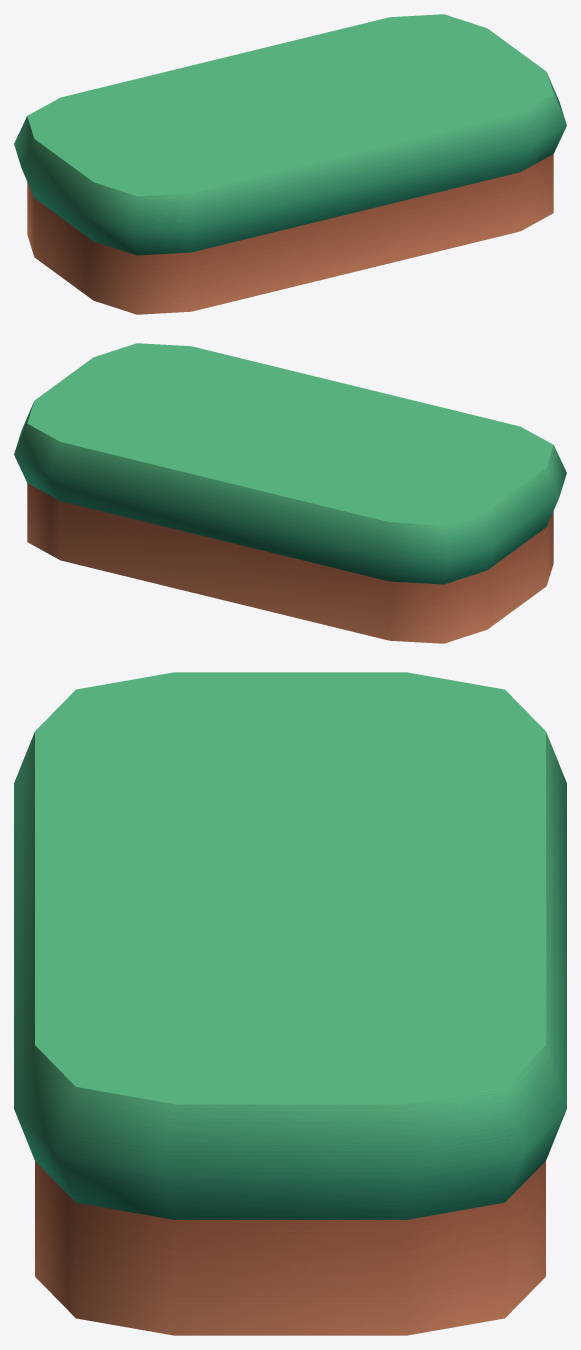
Rendered from block-grass-low-long.glb.
The picture shows the model from 3 angles, top to bottom: view 1: azimuth 30°, elevation 25°; view 2: azimuth 150°, elevation 25°; view 3: azimuth 270°, elevation 25°; orthographic projection. The views are drawn at different scales.
Visible parts, largest first — view 1: block-grass-low-long; view 2: block-grass-low-long; view 3: block-grass-low-long.
Part boxes in pixels (bbox=[...]): block-grass-low-long: bbox=[14, 14, 566, 314]; block-grass-low-long: bbox=[14, 343, 566, 643]; block-grass-low-long: bbox=[14, 672, 566, 1335].
Bounding box in the file's own units: 2.08 × 0.5 × 1.08.
Materials: 1 (1 with a texture image).
